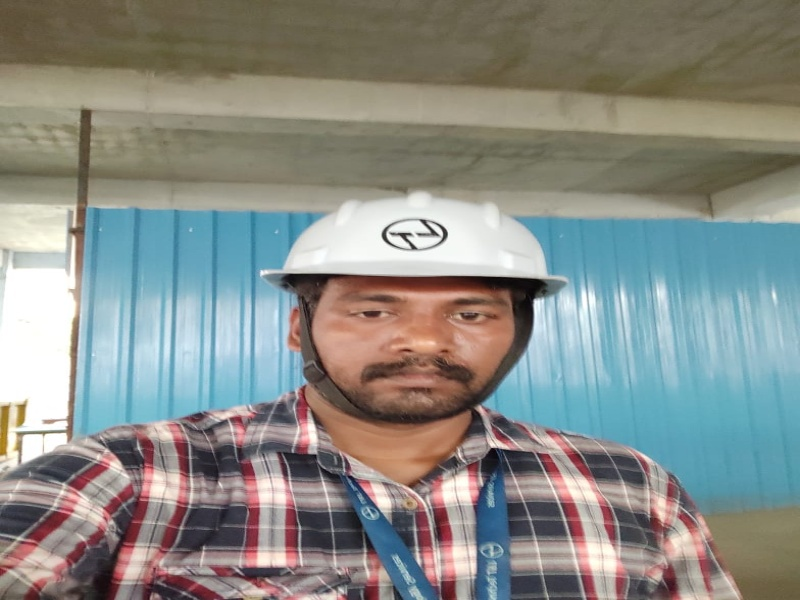Face: (260, 180, 572, 289)
